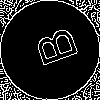B: (25, 25, 79, 72)
